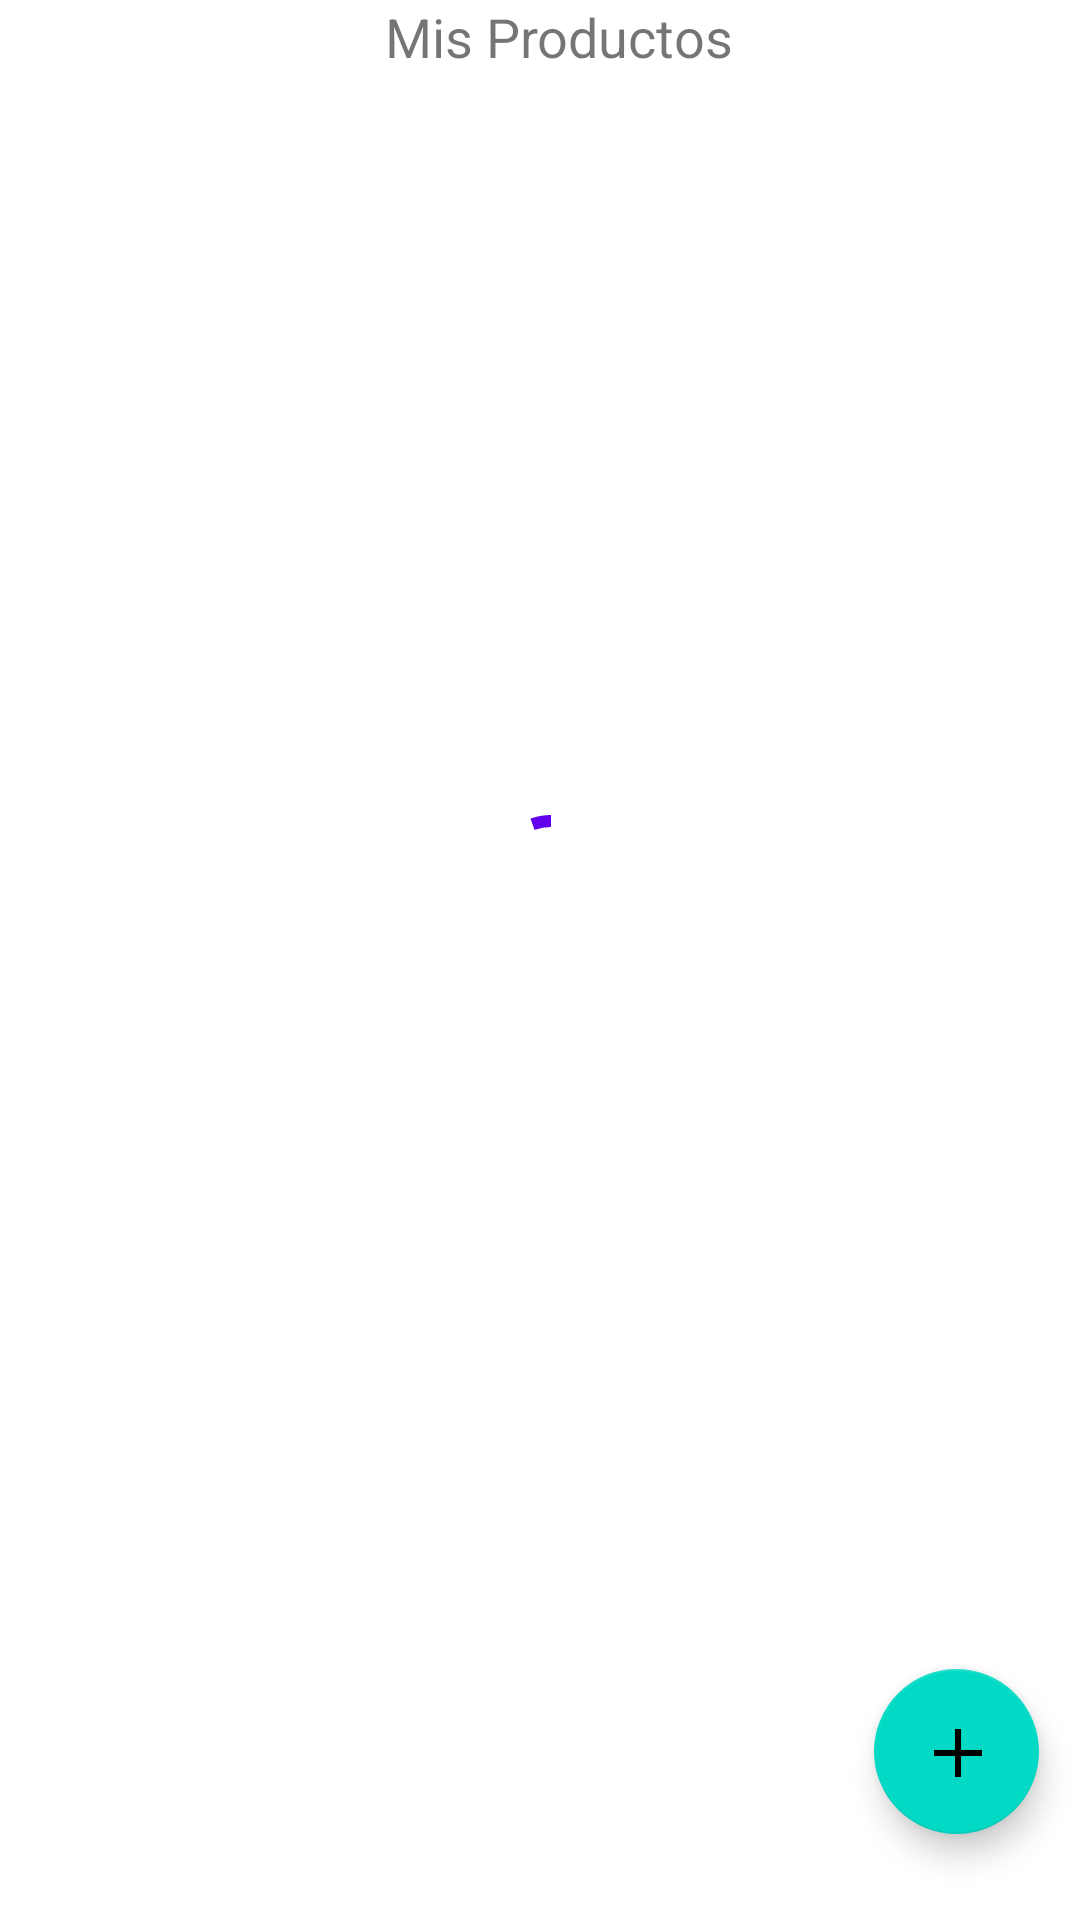

Where icons sit on this 1080*1920 app screen, as Rect(x1, y1, x2, y2):
mas: Rect(874, 1669, 1039, 1834)
